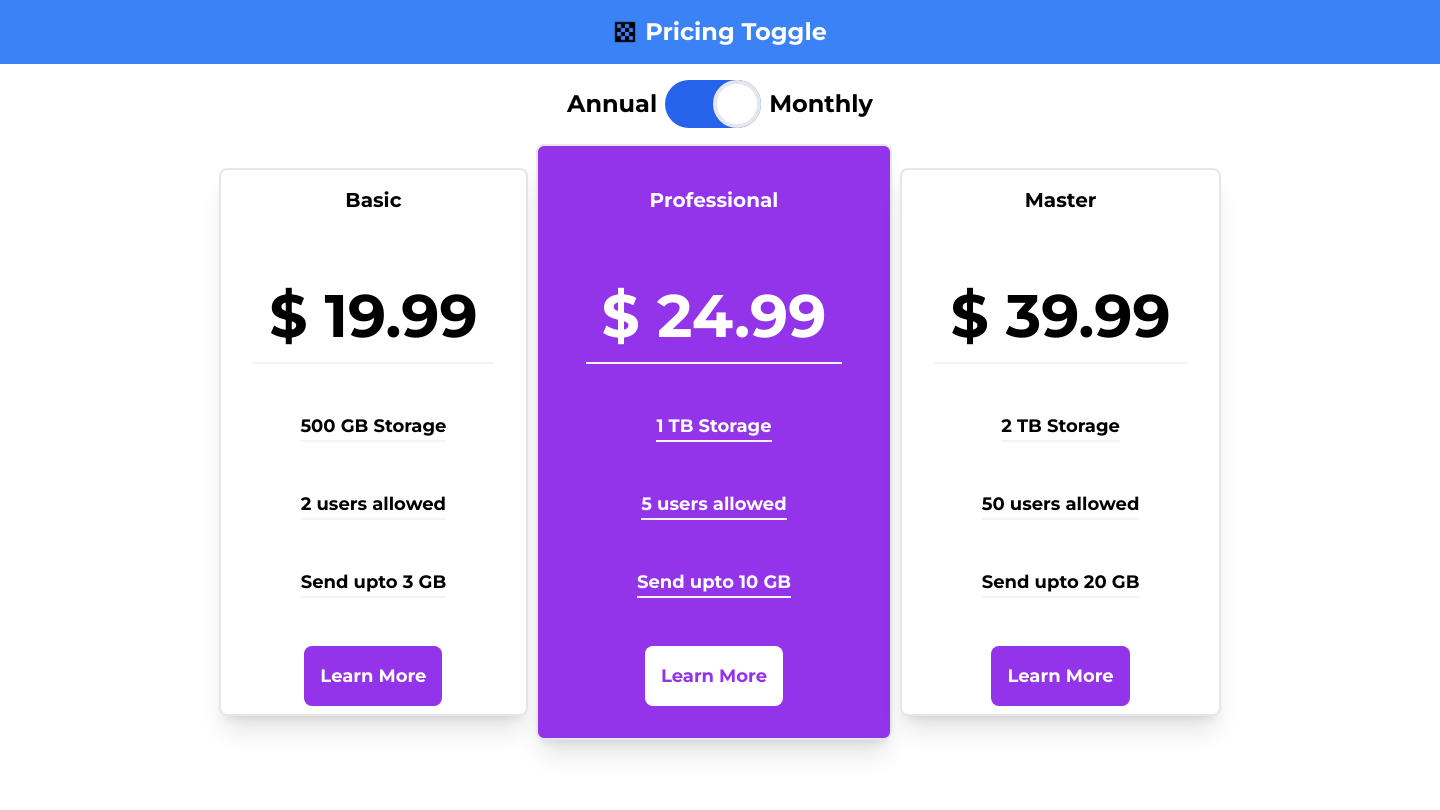
<PricingToggle /> › should render plans and toggle
Expected: the text "Annual" is shown, [567,88,657,120]
Expected: the text "Monthly" is shown, [769,88,873,120]
Click the checkbox named "change frequency".
click(713, 104)  # box [665,80,761,128]
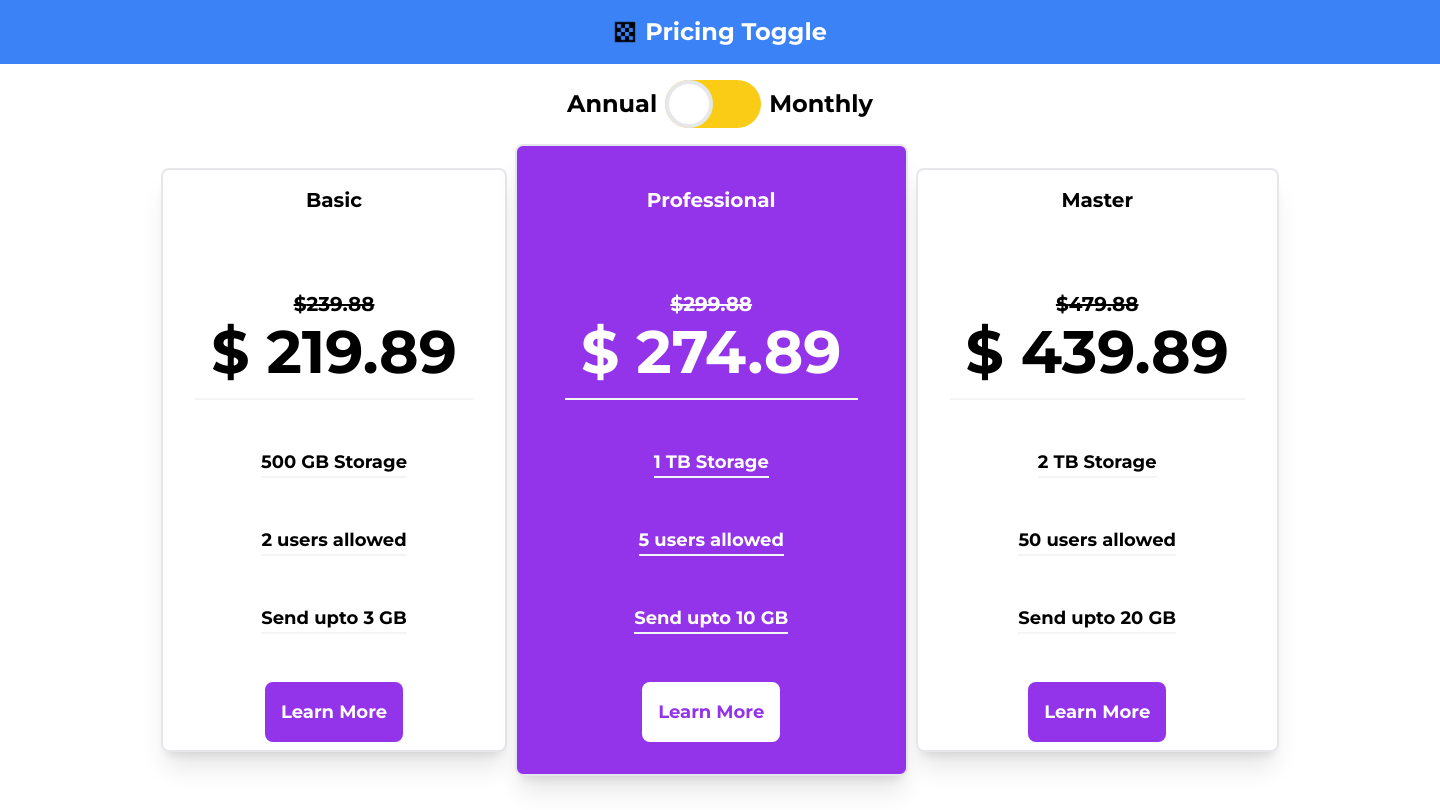
Expected: the text "$ 274.89" is shown, [581,322,842,382]
